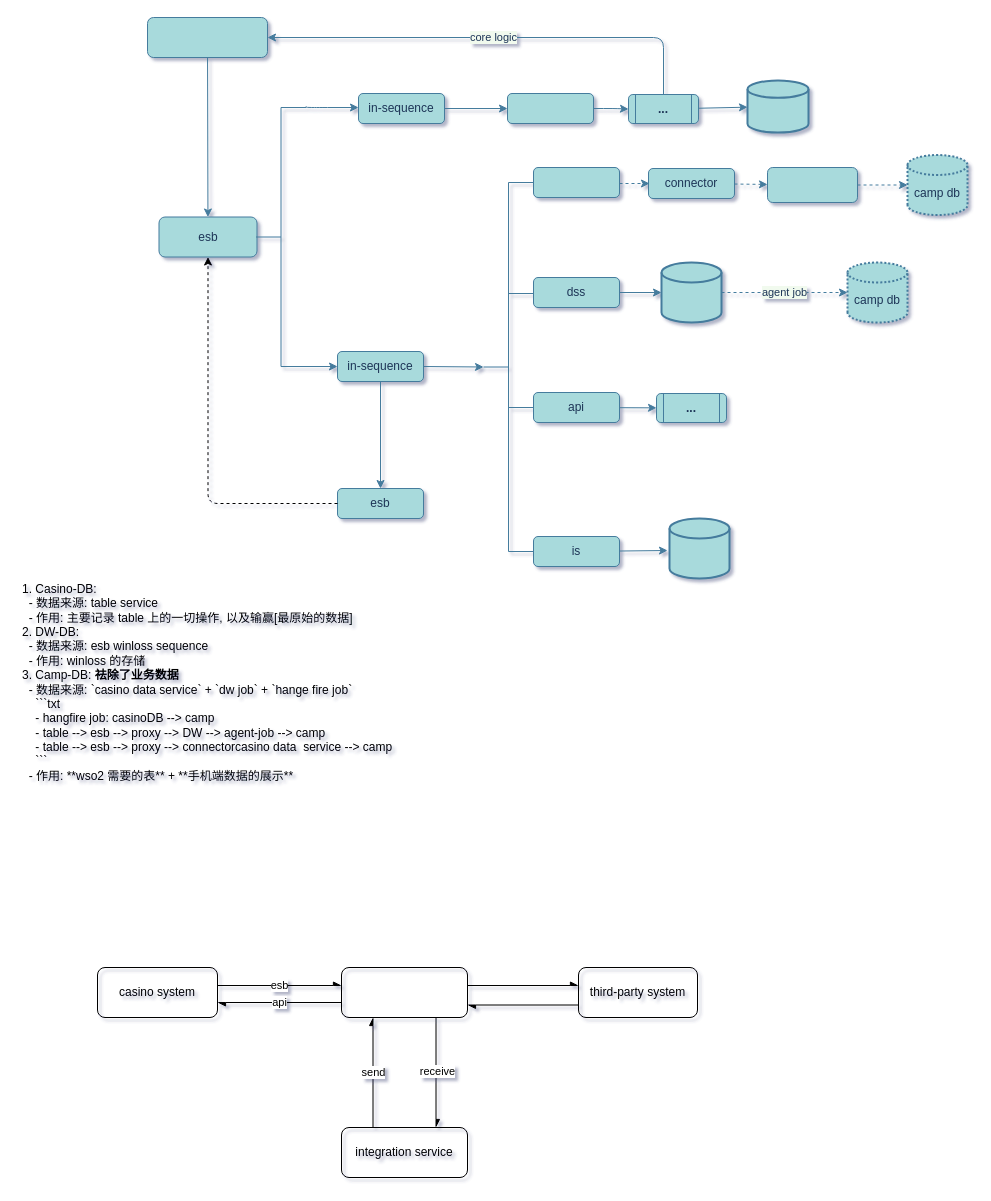
Image size: 991x1201. Some labels were removed from this diagram. The shapes that lost their labels are listed below. From the top down, each one's centre as x and y in pixels, then its label:
At pixel 207 37: "table client".
At pixel 550 108: "table service".
At pixel 777 106: "casino db".
At pixel 576 182: "rabbit mq".
At pixel 812 184: "casino data service".
At pixel 691 292: "dw db".
At pixel 699 548: "appache ds".
At pixel 404 992: "azure service bus".
